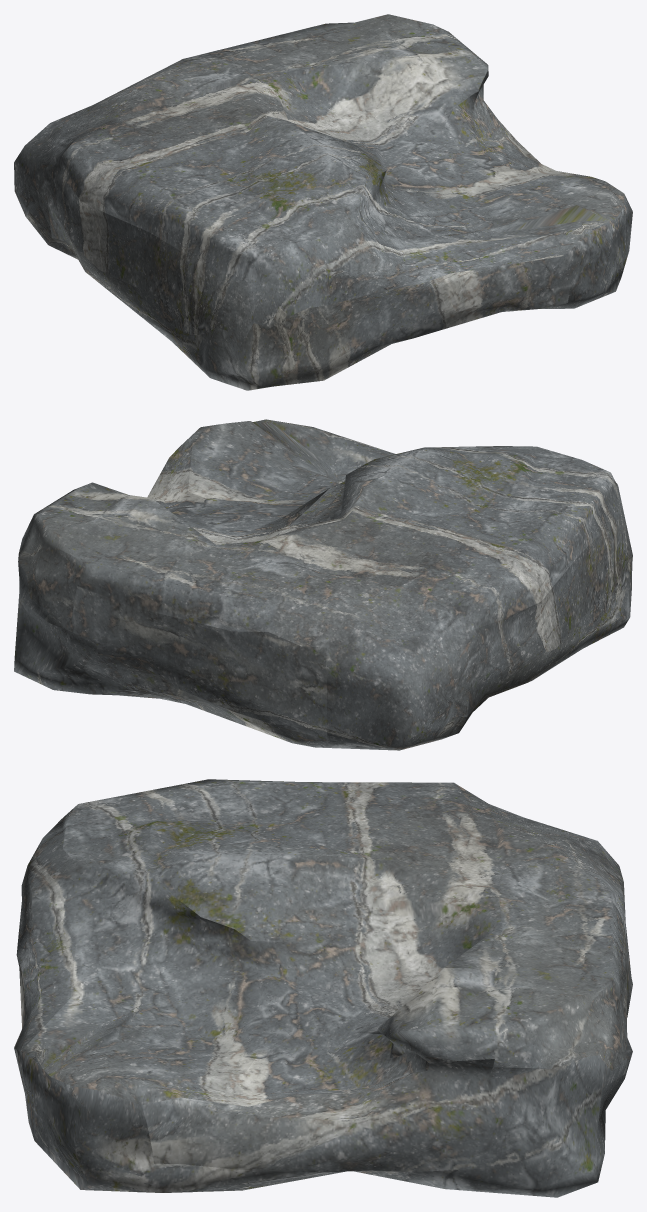
The model's file is SM_StoneBrick_A_04.fbx.
3 views of the same model, one above another, from view 1: azimuth 30°, elevation 25°; view 2: azimuth 150°, elevation 25°; view 3: azimuth 270°, elevation 25° (orthographic). The views are drawn at different scales.
Parts seen in each view (by area): view 1: SM_StoneBrick_A_04_LOD0; view 2: SM_StoneBrick_A_04_LOD0; view 3: SM_StoneBrick_A_04_LOD0.
Boxes of the visible parts, x1=… form: SM_StoneBrick_A_04_LOD0: x1=14, y1=14, x2=632, y2=390; SM_StoneBrick_A_04_LOD0: x1=14, y1=419, x2=632, y2=750; SM_StoneBrick_A_04_LOD0: x1=14, y1=779, x2=632, y2=1197.
Bounding box in the file's own units: 110 × 106 × 40.28.
